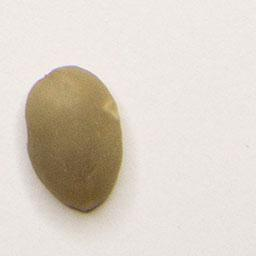premium: (22, 62, 127, 216)
